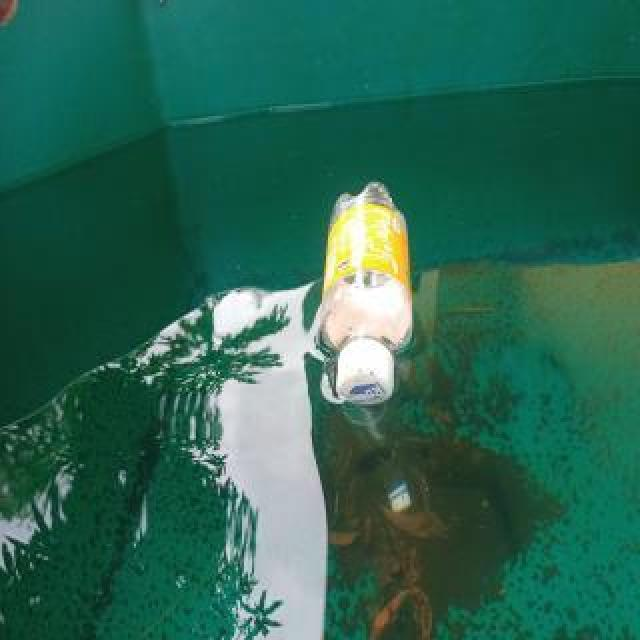Bottle: (314, 172, 419, 410)
